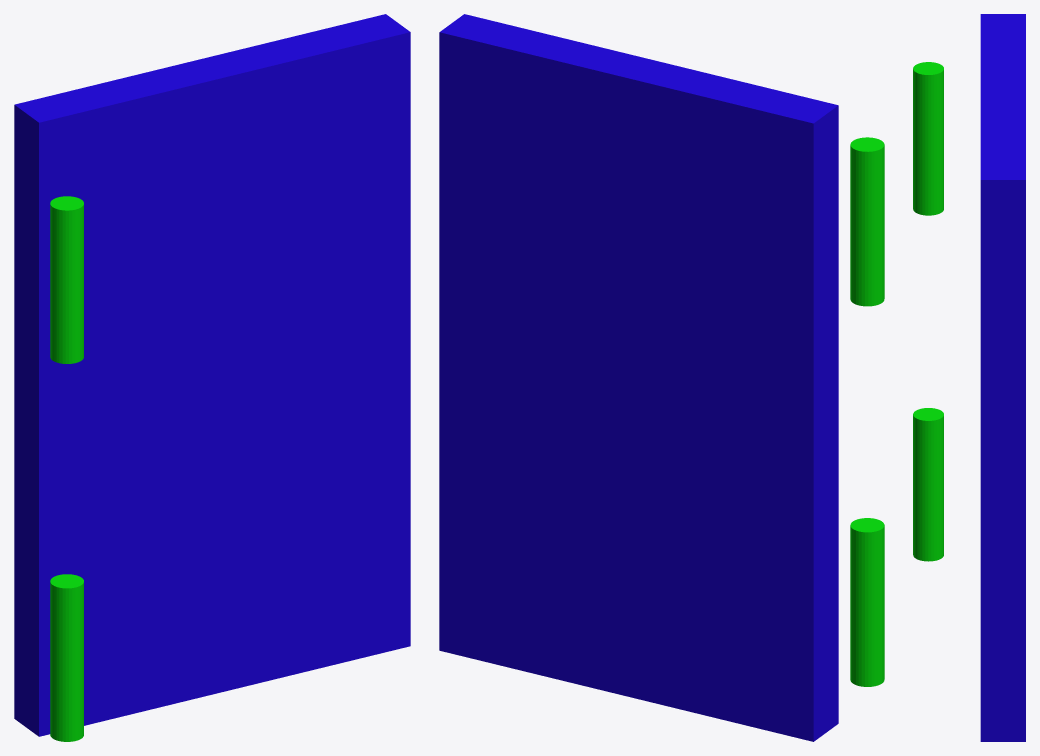
The model's file is securityBoxOnlyDoorUCX.fbx.
3 views of the same model, side by side, from view 1: azimuth 30°, elevation 25°; view 2: azimuth 150°, elevation 25°; view 3: azimuth 270°, elevation 25° (orthographic). The views are drawn at different scales.
Visible parts, largest first — view 1: door; view 2: door; view 3: door.
Boxes of the visible parts, left/top/right/bottom form: door: left=14, top=14, right=410, bottom=741; door: left=439, top=14, right=884, bottom=741; door: left=913, top=14, right=1025, bottom=741.
Size of what is drawn, in the model's own units: 132 by 200 by 36.37.
